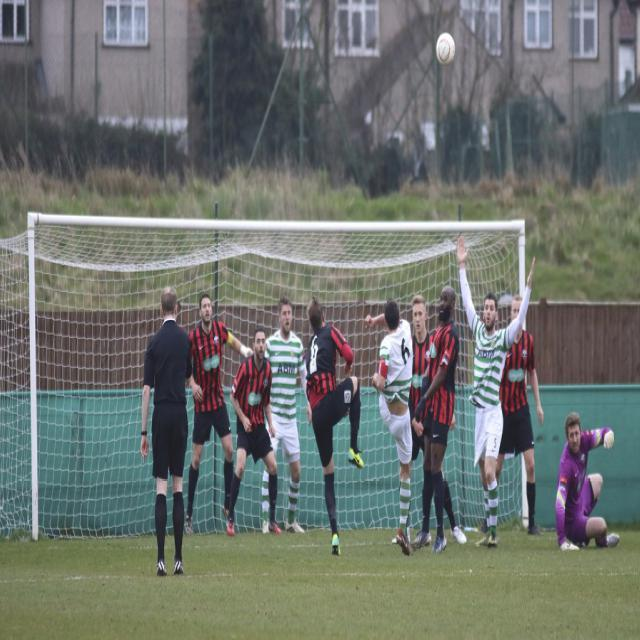football: (430, 33, 471, 61)
